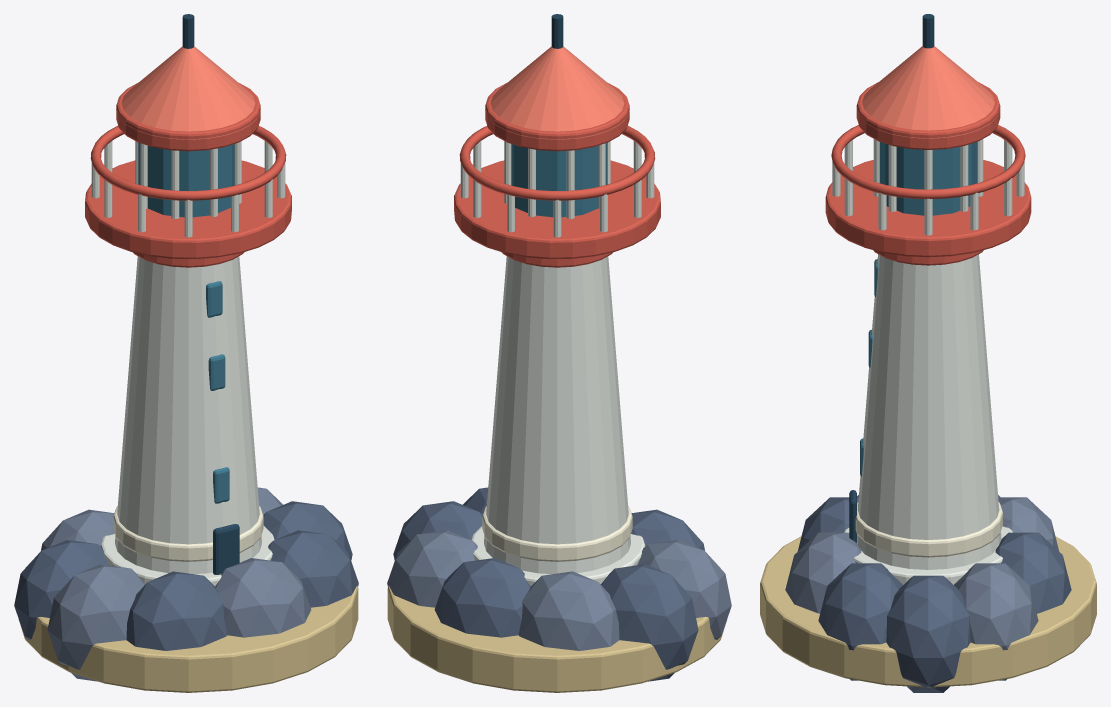
Rendered from lighthouse.glb.
The picture shows the model from 3 angles, left to right: view 1: azimuth 30°, elevation 25°; view 2: azimuth 150°, elevation 25°; view 3: azimuth 270°, elevation 25°; orthographic projection.
Visible parts, largest first — view 1: TaperedTower, IslandBase, BalconyDeck, RedConicalRoof, BreakwaterRock_05, BreakwaterRock_06, BreakwaterRock_07, BreakwaterRock_08, BreakwaterRock_04, LanternGlass, RoofEave, BalconyTopRail (+10 smaller); view 2: TaperedTower, IslandBase, BalconyDeck, RedConicalRoof, BreakwaterRock_04, BreakwaterRock_03, BreakwaterRock_02, BreakwaterRock_01, BreakwaterRock_05, LanternGlass, RoofEave, BalconyTopRail (+6 smaller); view 3: TaperedTower, IslandBase, BalconyDeck, RedConicalRoof, BreakwaterRock_00, BreakwaterRock_01, BreakwaterRock_08, LanternGlass, BreakwaterRock_02, BreakwaterRock_07, RoofEave, BalconyTopRail (+5 smaller).
Boxes of the visible parts, left/top/right/bottom form: TaperedTower: left=115, top=256, right=261, bottom=574; IslandBase: left=18, top=561, right=358, bottom=692; BalconyDeck: left=85, top=160, right=291, bottom=258; RedConicalRoof: left=116, top=46, right=260, bottom=139; BreakwaterRock_05: left=47, top=564, right=144, bottom=681; BreakwaterRock_06: left=126, top=571, right=227, bottom=650; BreakwaterRock_07: left=215, top=558, right=311, bottom=637; BreakwaterRock_08: left=268, top=530, right=358, bottom=607; BreakwaterRock_04: left=14, top=540, right=108, bottom=639; LanternGlass: left=138, top=142, right=234, bottom=217; RoofEave: left=116, top=83, right=260, bottom=151; BalconyTopRail: left=90, top=126, right=286, bottom=200; TaperedTower: left=484, top=256, right=630, bottom=574; IslandBase: left=387, top=561, right=727, bottom=692; BalconyDeck: left=454, top=160, right=660, bottom=258; RedConicalRoof: left=485, top=46, right=629, bottom=139; BreakwaterRock_04: left=601, top=564, right=698, bottom=681; BreakwaterRock_03: left=518, top=571, right=619, bottom=650; BreakwaterRock_02: left=434, top=558, right=530, bottom=637; BreakwaterRock_01: left=387, top=530, right=477, bottom=607; BreakwaterRock_05: left=637, top=540, right=731, bottom=639; LanternGlass: left=511, top=142, right=607, bottom=217; RoofEave: left=485, top=83, right=629, bottom=151; BalconyTopRail: left=459, top=126, right=655, bottom=200; TaperedTower: left=857, top=254, right=1001, bottom=569; IslandBase: left=760, top=536, right=1096, bottom=687; BalconyDeck: left=825, top=160, right=1031, bottom=257; RedConicalRoof: left=856, top=46, right=1000, bottom=138; BreakwaterRock_00: left=886, top=575, right=970, bottom=692; BreakwaterRock_01: left=954, top=563, right=1038, bottom=680; BreakwaterRock_08: left=818, top=563, right=902, bottom=680; LanternGlass: left=879, top=142, right=977, bottom=215; BreakwaterRock_02: left=995, top=532, right=1071, bottom=613; BreakwaterRock_07: left=785, top=532, right=861, bottom=613; RoofEave: left=856, top=82, right=1000, bottom=149; BalconyTopRail: left=831, top=125, right=1025, bottom=199.
Size of the model in its own units: 2.26 by 4.41 by 2.16.
